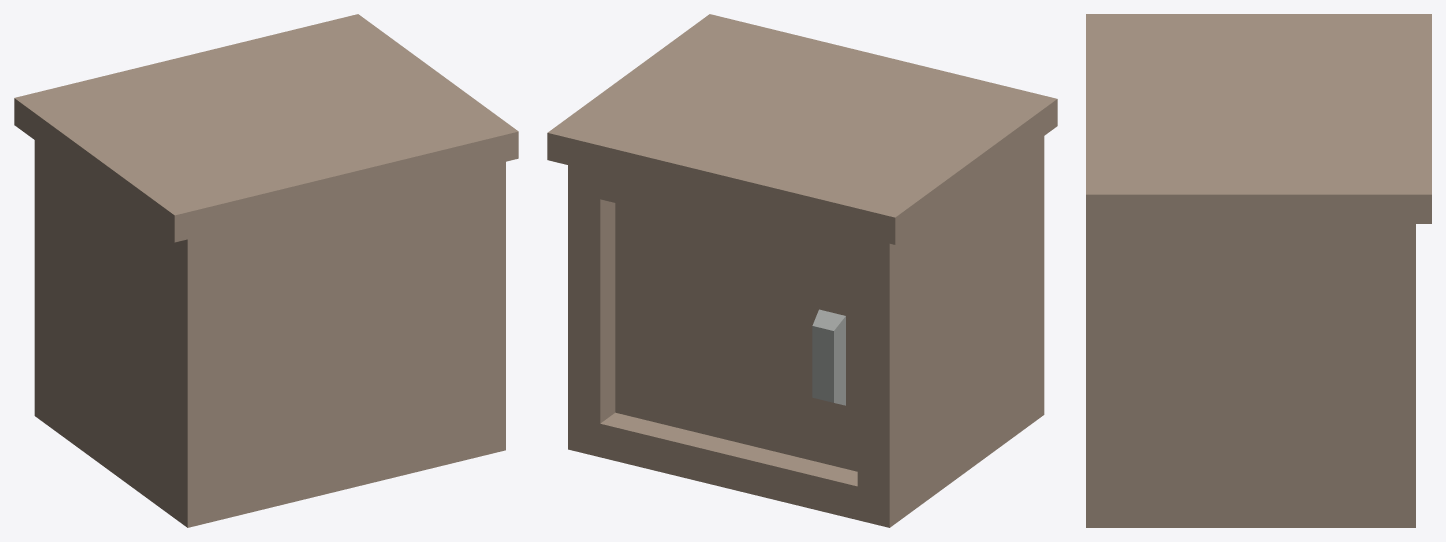
The model's file is cabinet_bed.glb.
The picture shows the model from 3 angles, left to right: view 1: azimuth 30°, elevation 25°; view 2: azimuth 150°, elevation 25°; view 3: azimuth 270°, elevation 25°; orthographic projection. The views are drawn at different scales.
Visible parts, largest first — view 1: cabinet_bed; view 2: cabinet_bed; view 3: cabinet_bed.
Part boxes in pixels (x1=…): cabinet_bed: x1=14, y1=14, x2=518, y2=527; cabinet_bed: x1=547, y1=14, x2=1057, y2=527; cabinet_bed: x1=1086, y1=14, x2=1431, y2=527.
Bounding box in the file's own units: 0.6616 × 0.58 × 0.5347.
